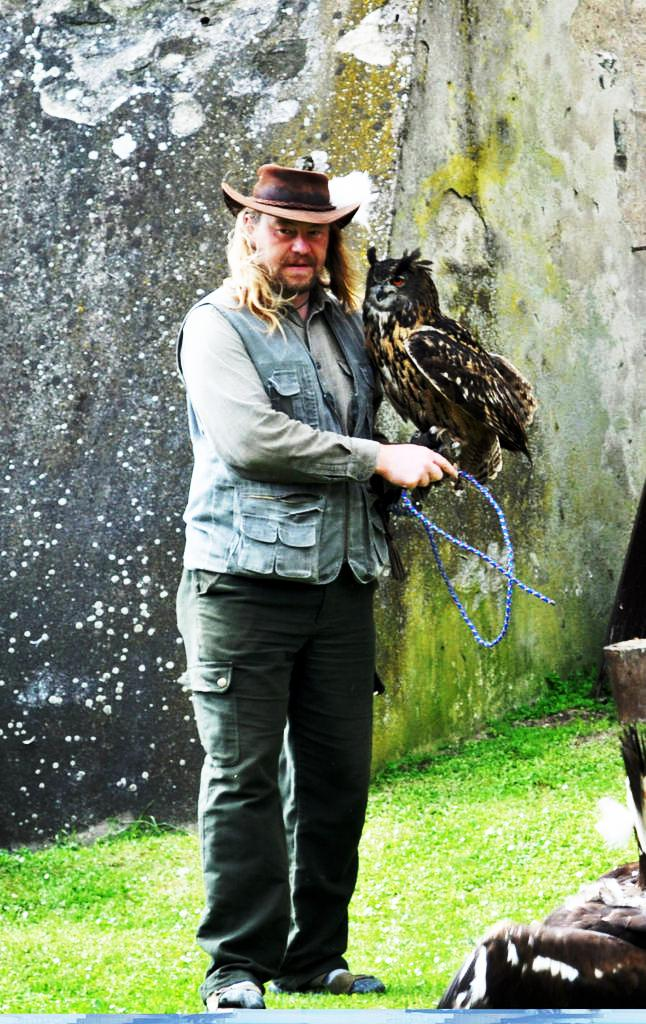Owl: (367, 236, 556, 500)
